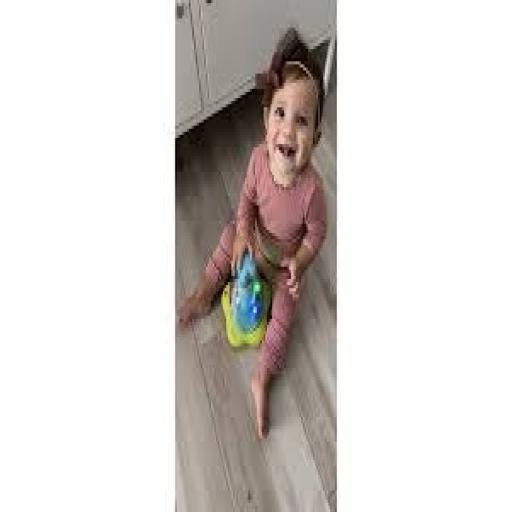baby: (179, 28, 326, 438)
